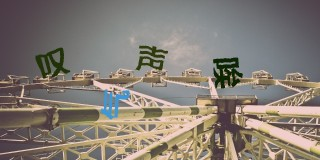叹: (34, 46, 71, 80)
唉: (211, 56, 243, 90)
声: (137, 44, 169, 74)
气: (100, 89, 133, 120)
